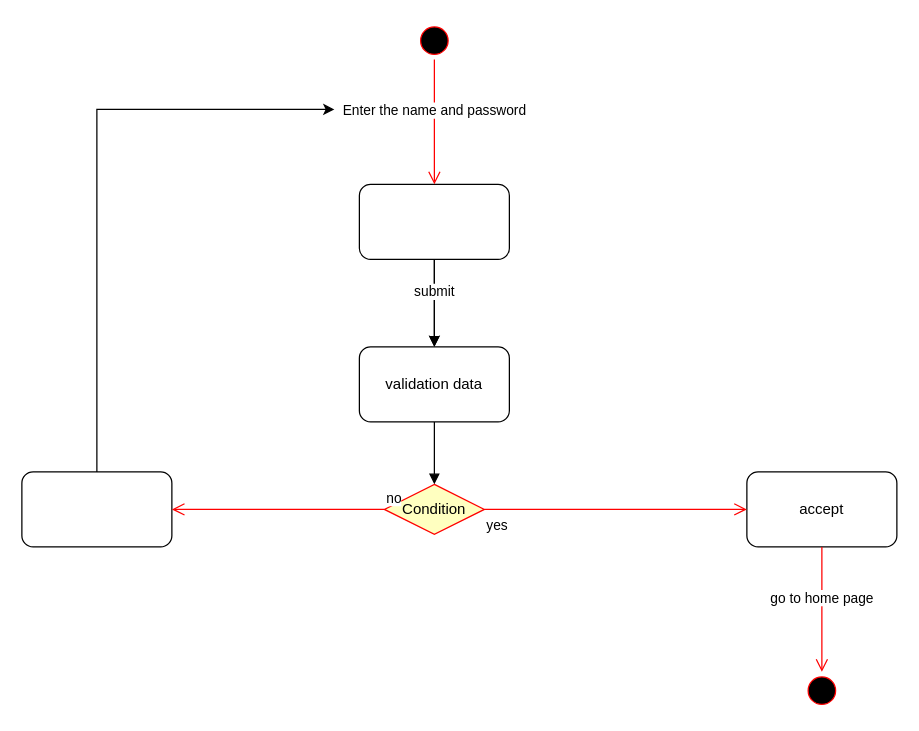
This 919x731 diagram has some shape labels left out. The centre of each missing label's shape, as x and y in pixels:
"Get the details" goes at pixel 433 221.
"reject" goes at pixel 96 509.
